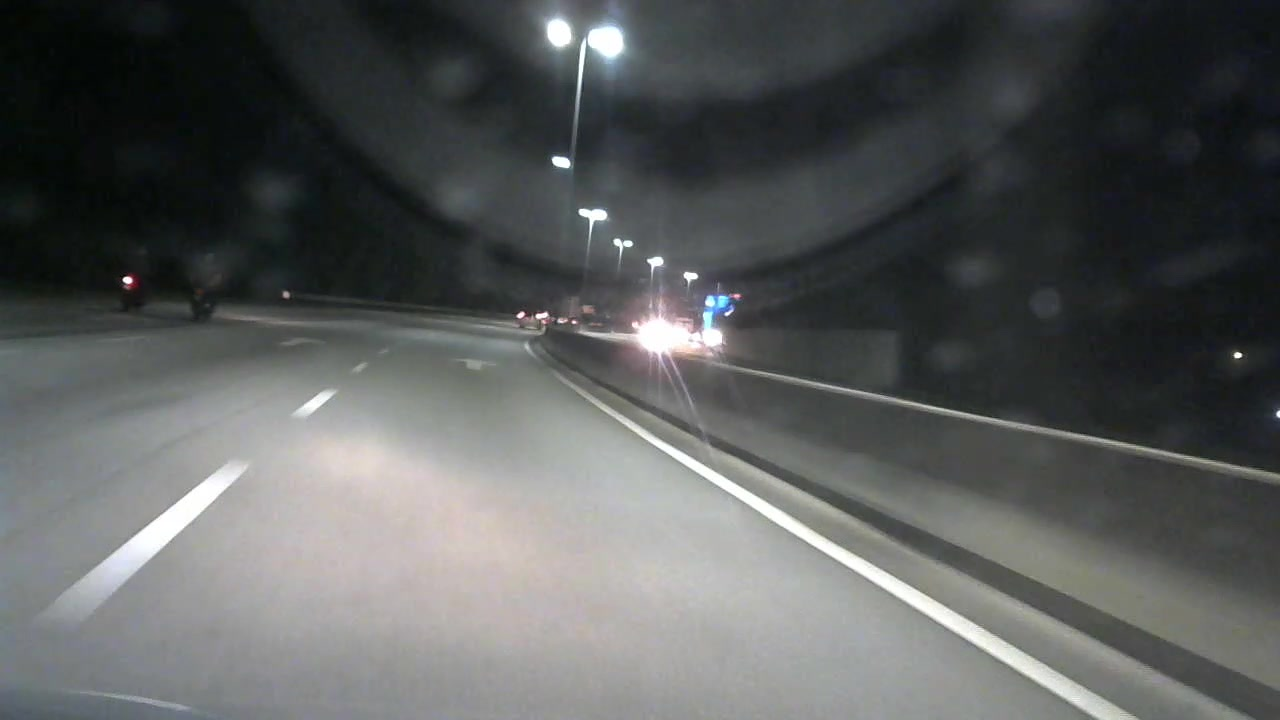Car: (514, 303, 546, 341)
